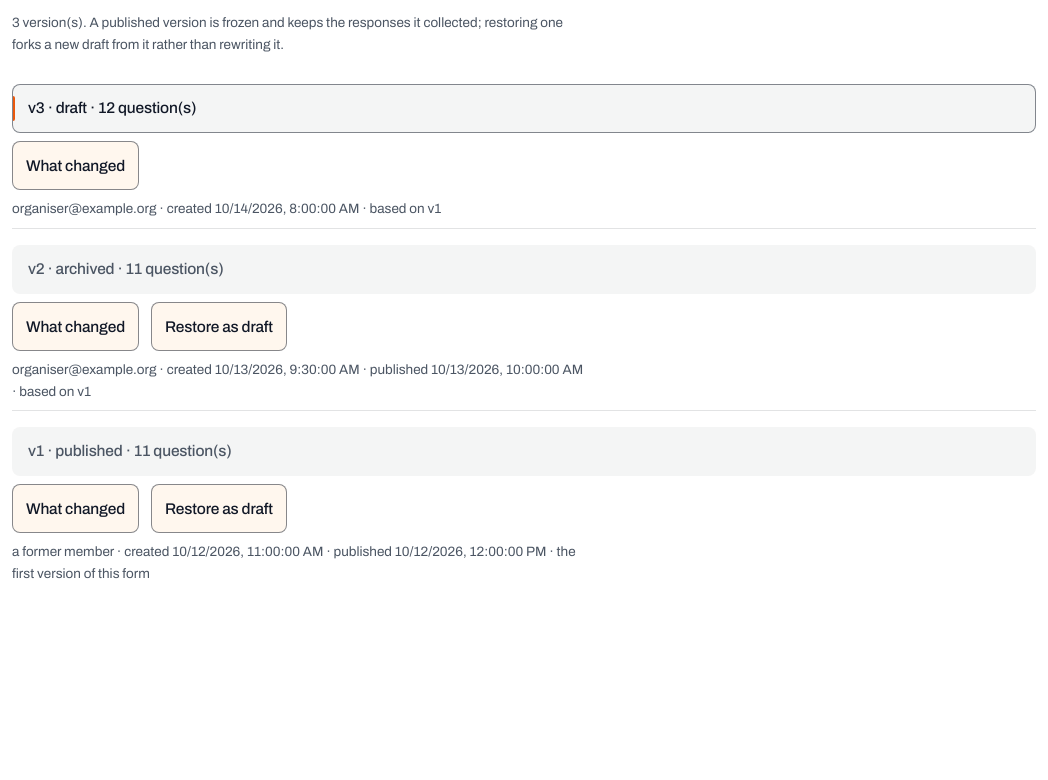
Test: the version history › says a first version is where the form started rather than showing no changes
Click the 3rd button "What changed" at (76, 509), box left=12, top=484, right=139, bottom=533
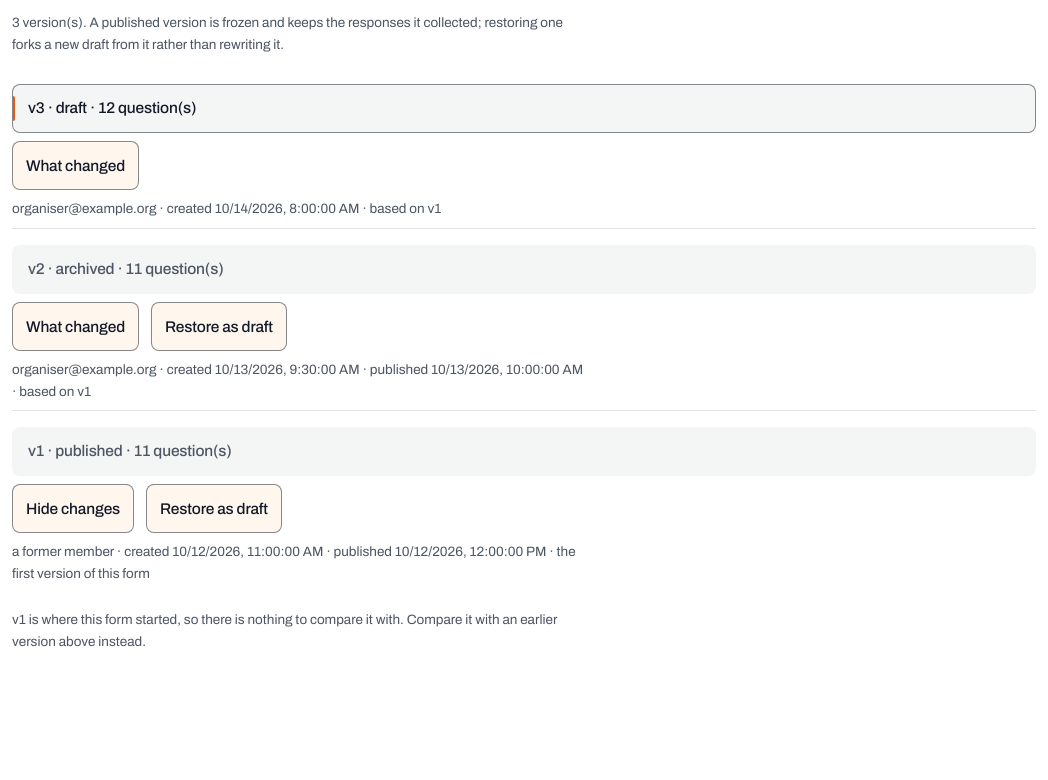
expect the text "where this form started" is shown: met, box left=12, top=612, right=557, bottom=649
